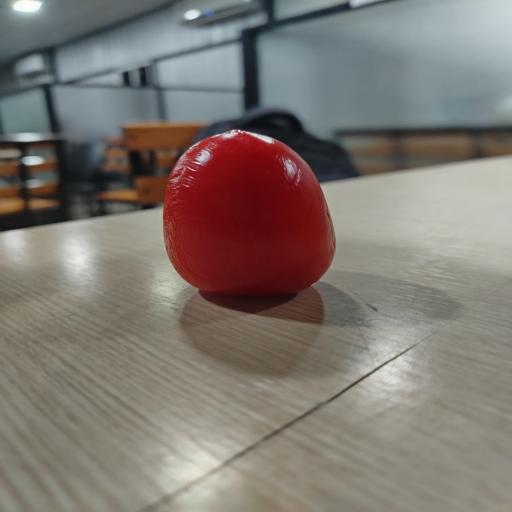spoiled: (163, 130, 335, 295)
